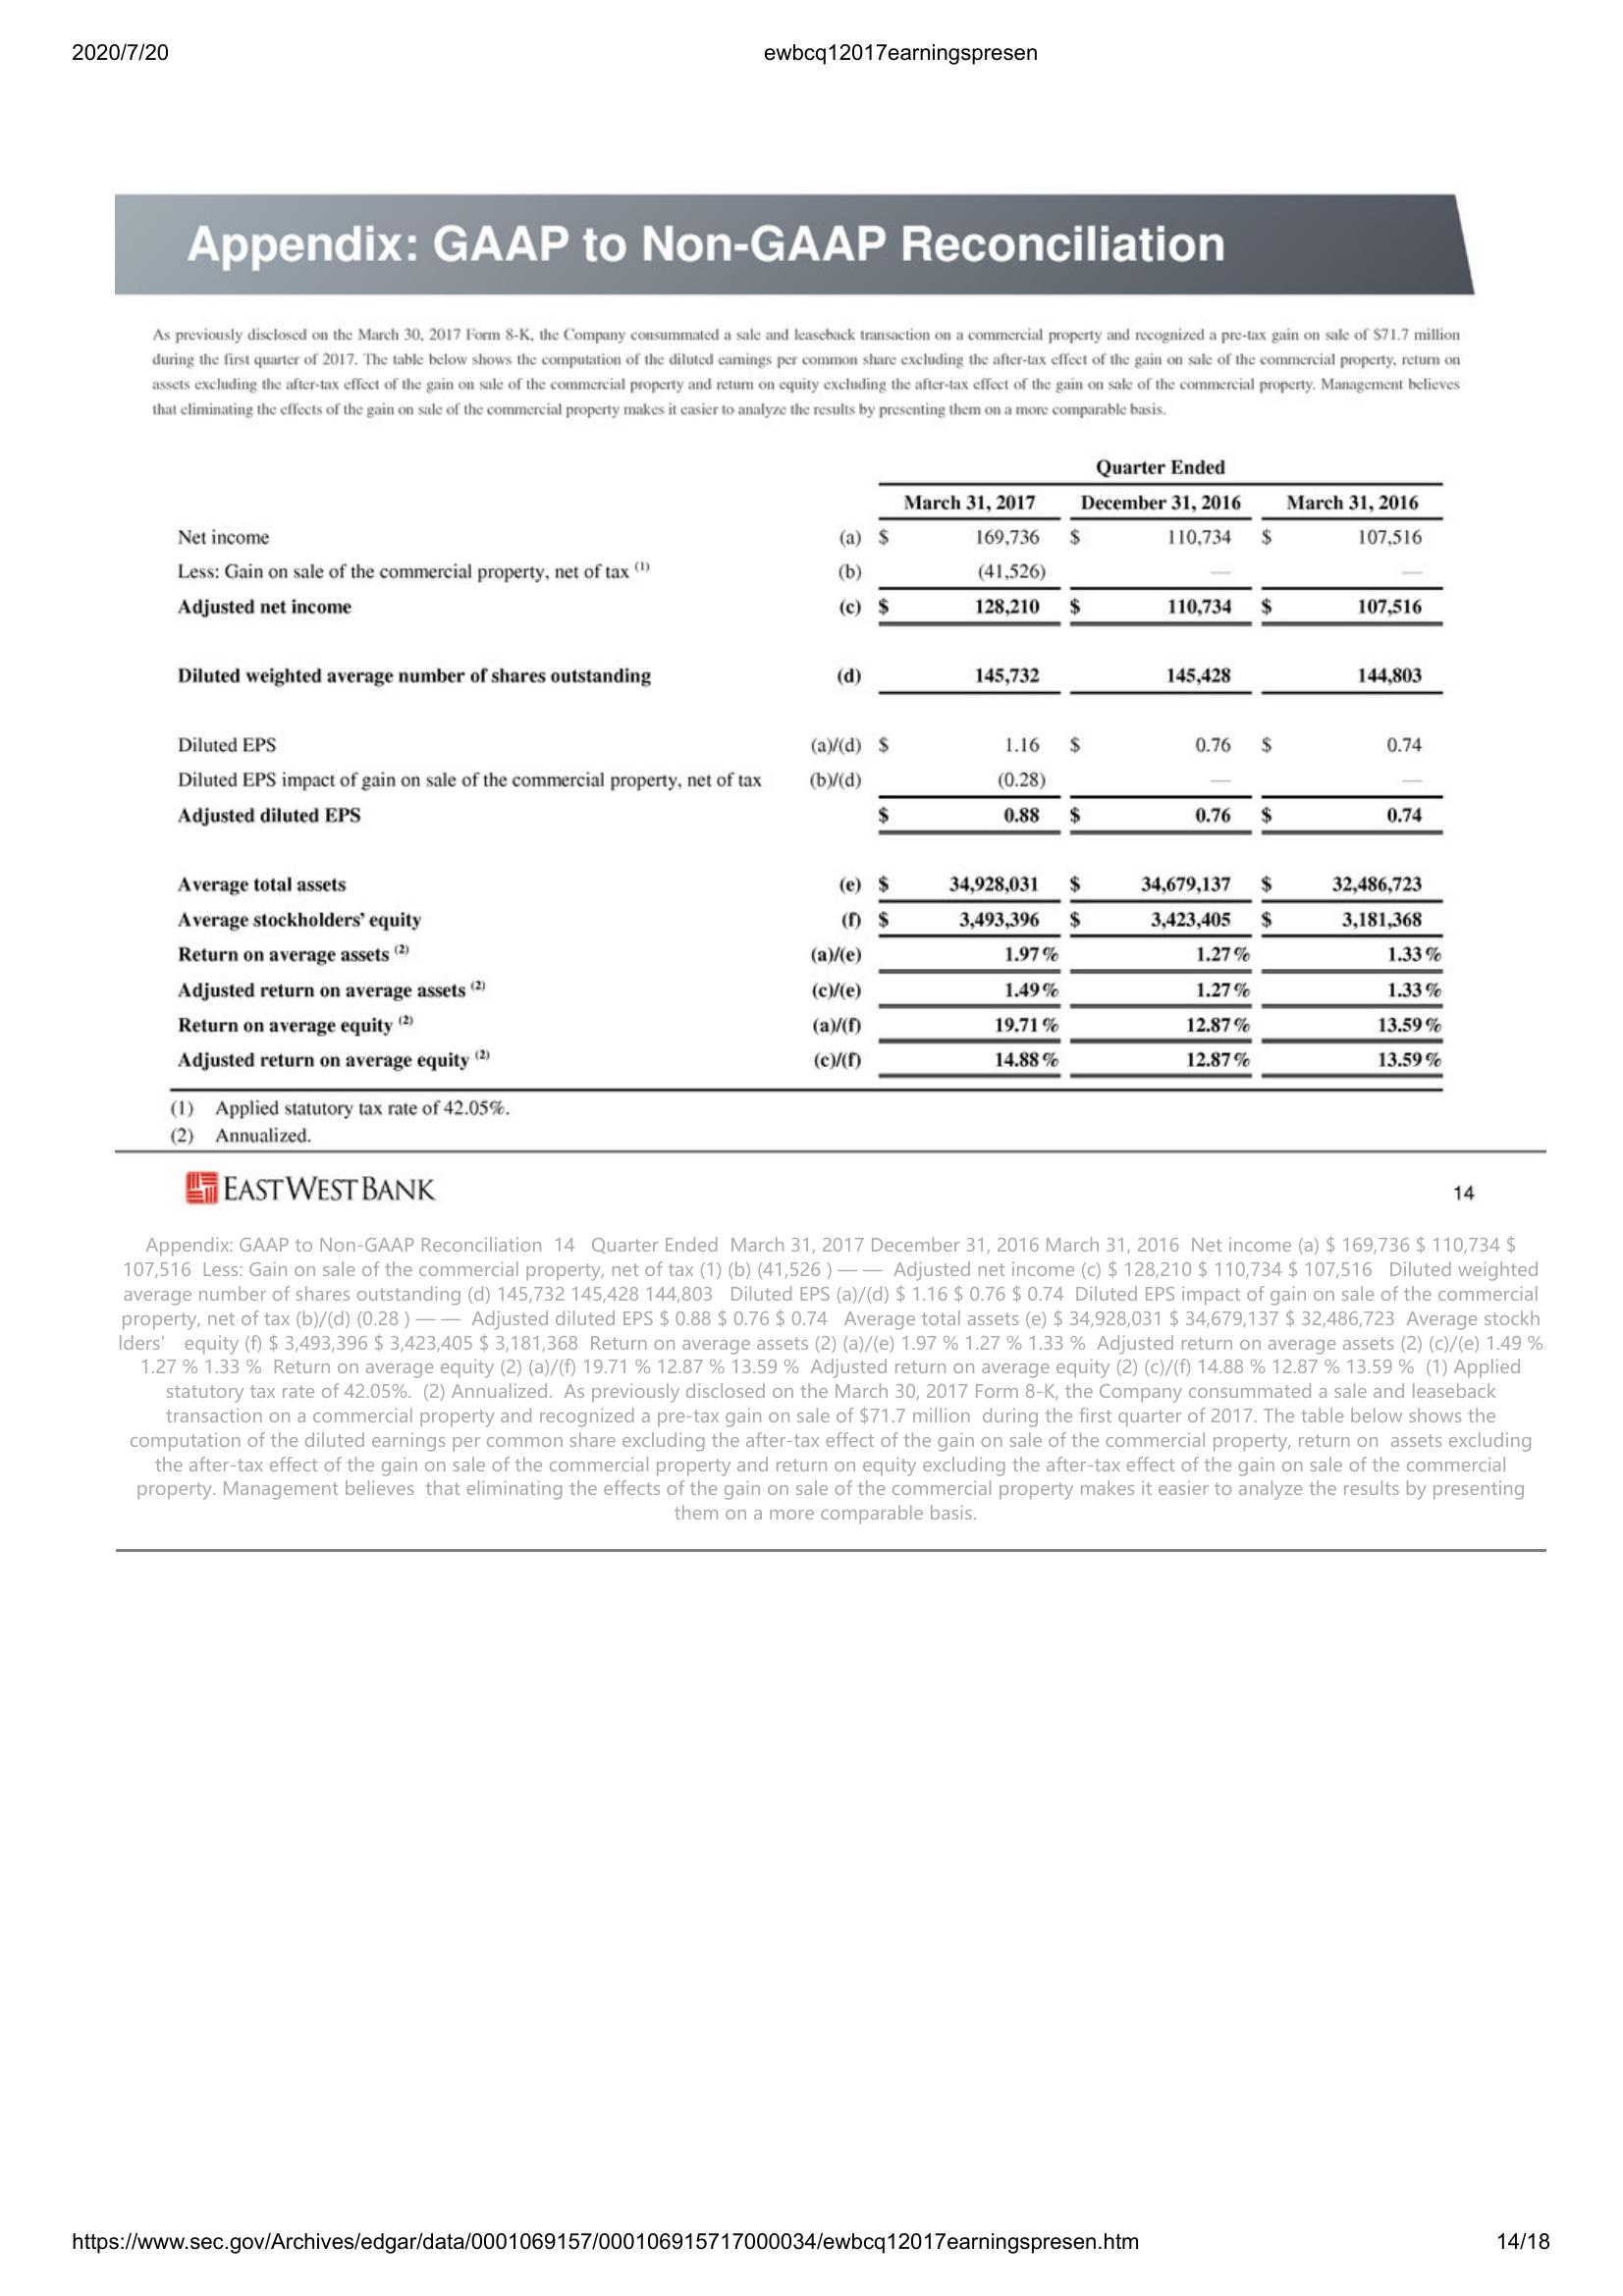table: (169, 451, 1453, 1095)
